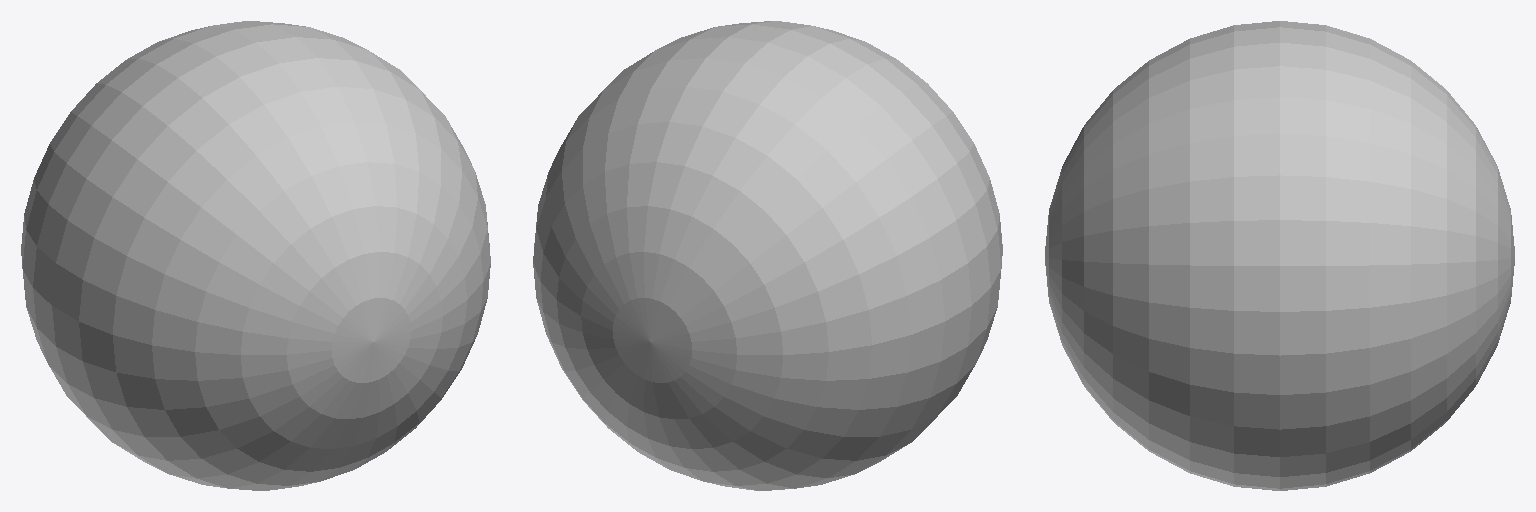
Rendered from skysphere.obj.
3 renders of one model, left to right at view 1: azimuth 30°, elevation 25°; view 2: azimuth 150°, elevation 25°; view 3: azimuth 270°, elevation 25°, orthographic.
Visible parts, largest first — view 1: SkySphere; view 2: SkySphere; view 3: SkySphere.
Boxes of the visible parts, <box> form: SkySphere: <box>21,21,490,490</box>; SkySphere: <box>533,21,1002,490</box>; SkySphere: <box>1045,21,1514,490</box>.
Bounding box in the file's own units: 2 × 2 × 2.